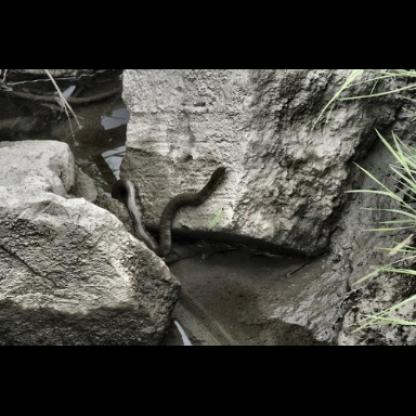Snake: (0, 118, 202, 361)
